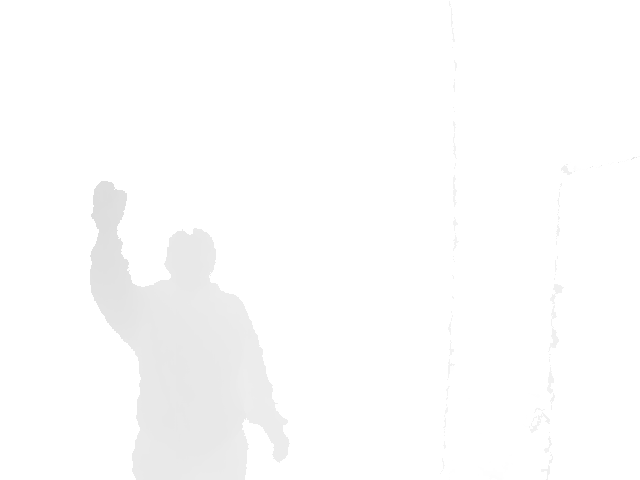hand: (87, 180, 128, 230)
head: (164, 226, 218, 289)
person: (88, 180, 291, 480)
